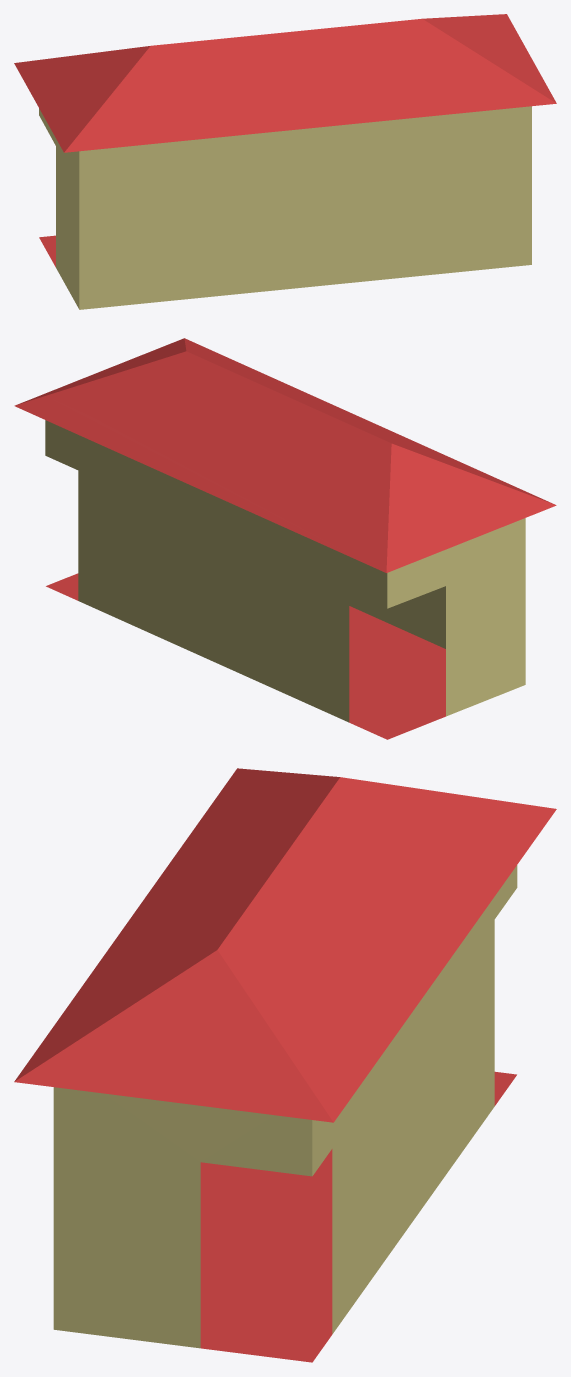
The picture shows the model from 3 angles, top to bottom: view 1: azimuth 30°, elevation 25°; view 2: azimuth 150°, elevation 25°; view 3: azimuth 270°, elevation 25°; orthographic projection. The views are drawn at different scales.
Parts seen in each view (by area): view 1: group_5, group_3, group_4; view 2: group_5, group_3, group_6, group_4; view 3: group_3, group_5, group_6, group_4.
Part boxes in pixels (x1,y1,x2,y2): group_5: (39,106,531,309); group_3: (14,14,556,152); group_4: (64,104,551,152); group_5: (45,420,525,722); group_3: (17,338,556,572); group_6: (46,573,445,739); group_4: (14,341,554,571); group_3: (14,770,556,1122); group_5: (53,865,517,1348); group_6: (200,1071,516,1362); group_4: (16,768,555,1122).
Size of the model in its own units: 26.41 by 17.1 by 11.74.
